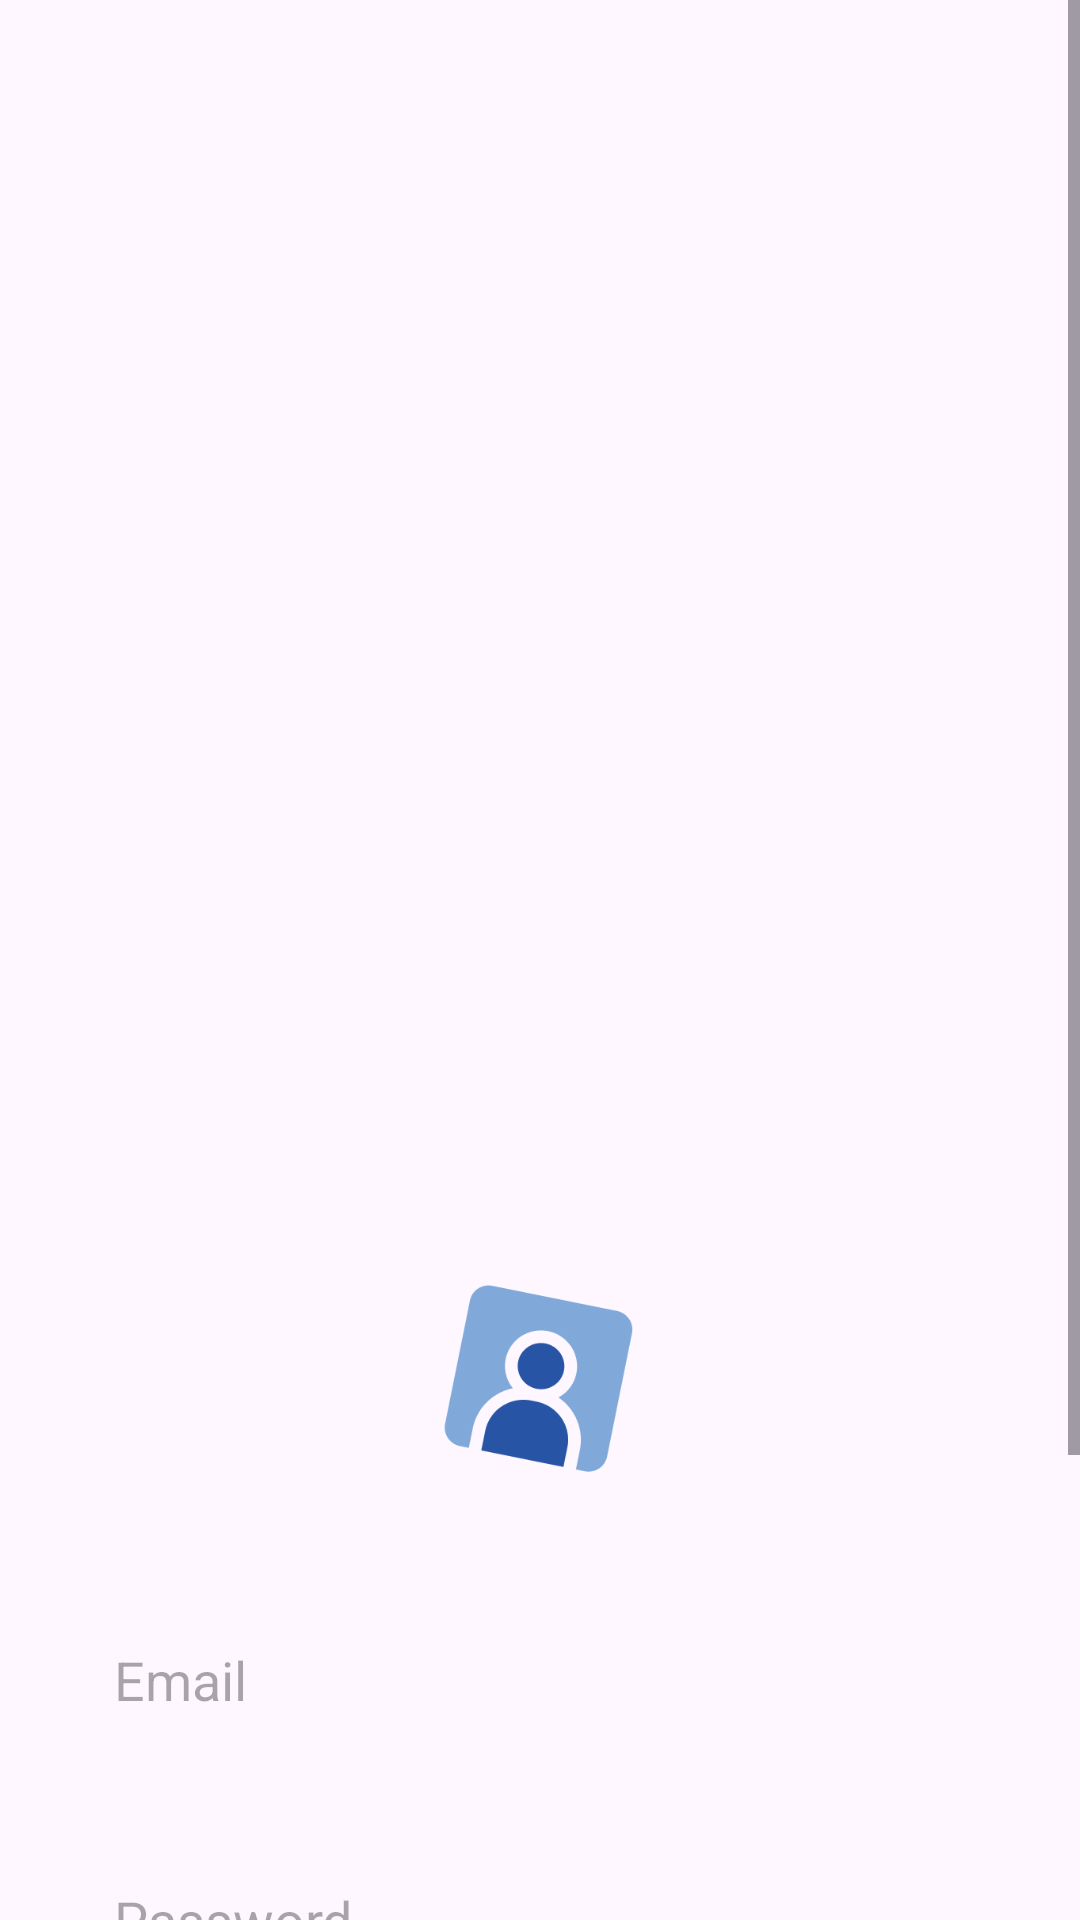

Screen size 1080 × 1920. Icon name, then its center in pixels as point (x, y):
Profile: point (538, 1378)
